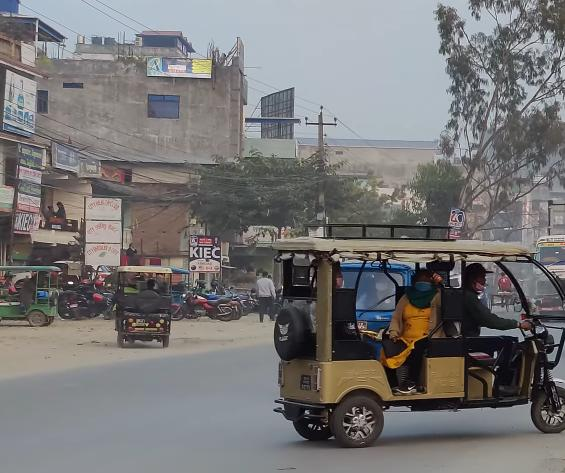e-rickshaw: (266, 214, 565, 459), (114, 261, 179, 357), (0, 261, 61, 329)
